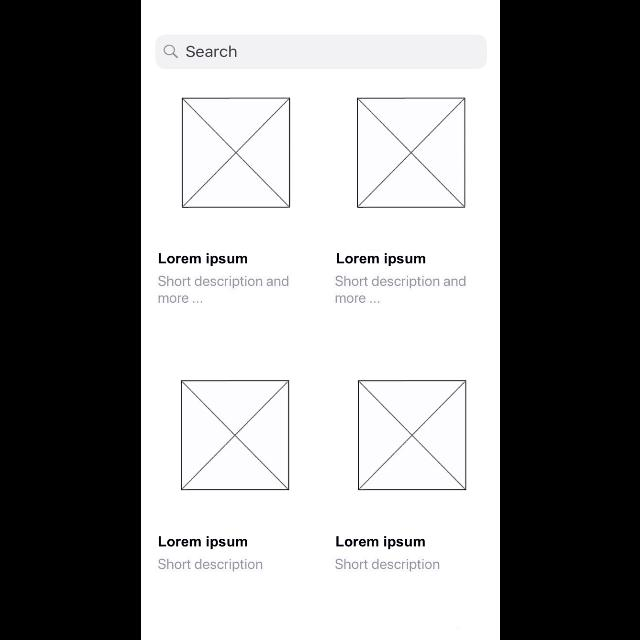icon: (162, 45, 178, 59)
image: (357, 97, 468, 209), (357, 380, 467, 492), (180, 381, 290, 492), (180, 98, 290, 208)
input: (155, 34, 487, 70)
text: (158, 276, 288, 304), (335, 276, 465, 304), (334, 558, 440, 572), (158, 558, 262, 572), (158, 253, 248, 267), (336, 253, 426, 267), (335, 536, 425, 550), (158, 536, 248, 550), (186, 46, 237, 58)
